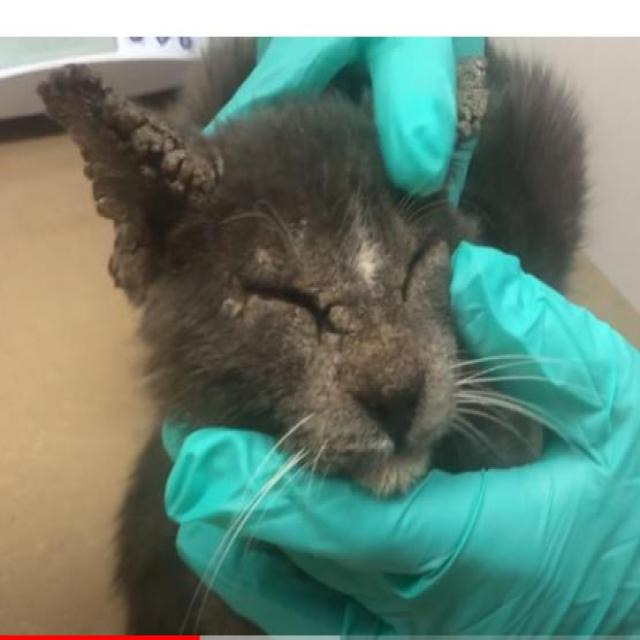ghe: (214, 226, 351, 344), (106, 98, 202, 242)
